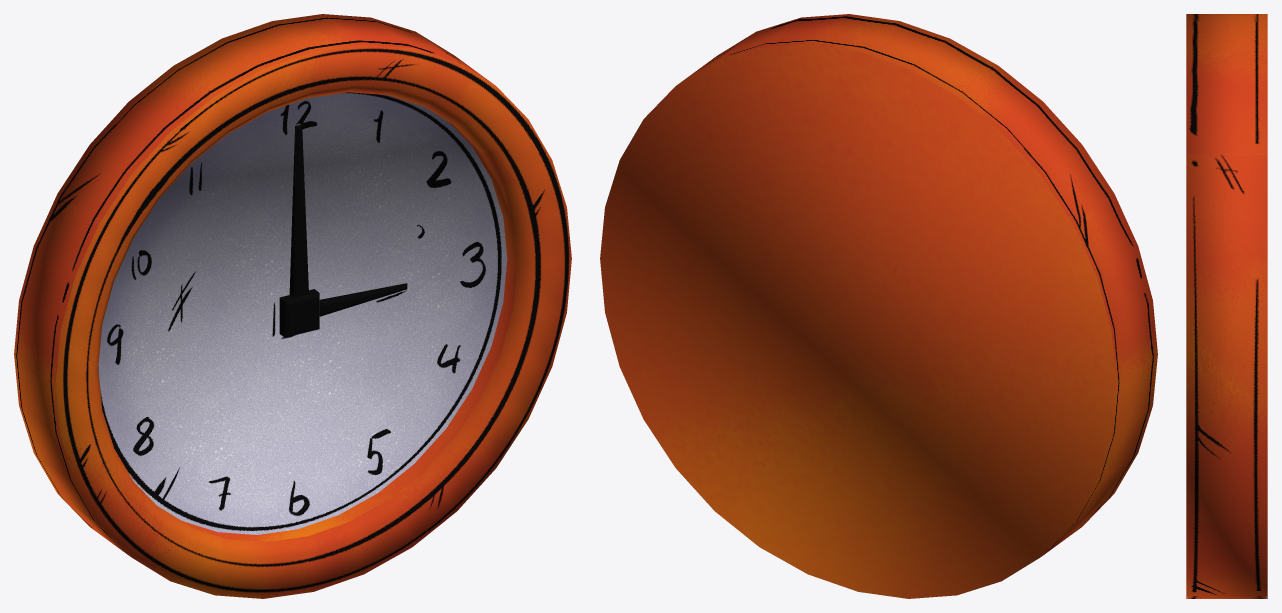
File: Clock.glb
The picture shows the model from 3 angles, left to right: view 1: azimuth 30°, elevation 25°; view 2: azimuth 150°, elevation 25°; view 3: azimuth 270°, elevation 25°; orthographic projection.
Parts seen in each view (by area): view 1: Cylinder; view 2: Cylinder; view 3: Cylinder.
Boxes of the visible parts, box(x1,y1,x2,y2) form: Cylinder: box(14, 14, 571, 598); Cylinder: box(600, 14, 1157, 598); Cylinder: box(1186, 14, 1267, 598).
Bounding box in the file's own units: 1.67 × 1.67 × 0.2332.
1 material, 1 textured.
